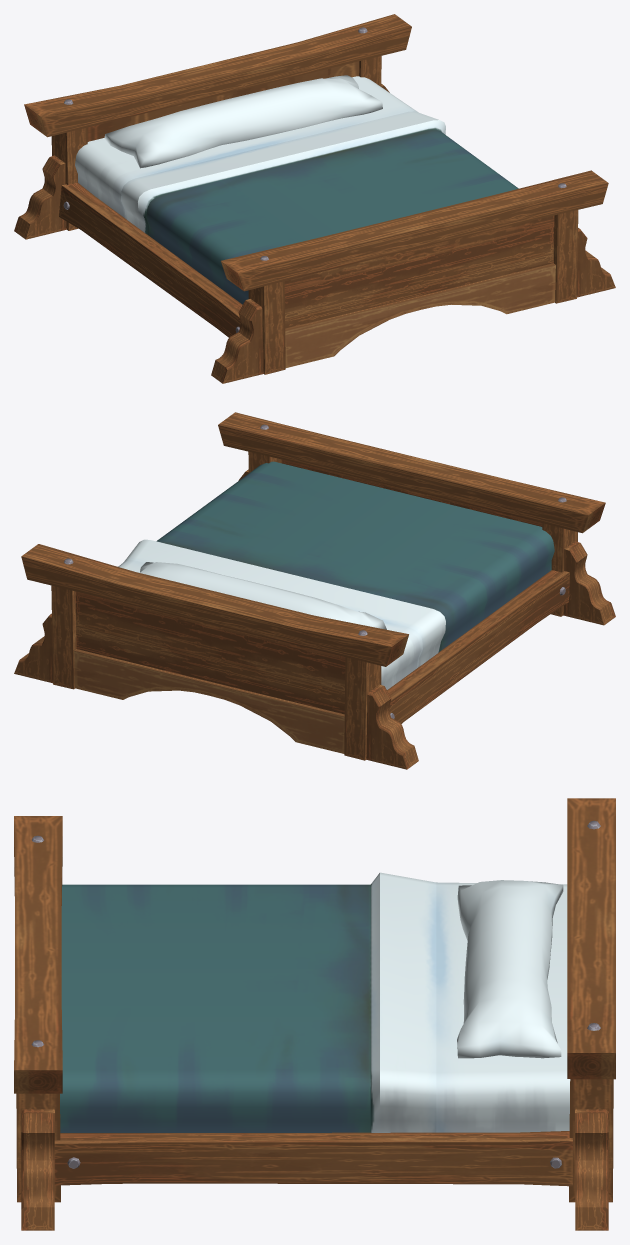
File: Bed_Double2.fbx
3 views of the same model, one above another, from view 1: azimuth 30°, elevation 25°; view 2: azimuth 150°, elevation 25°; view 3: azimuth 270°, elevation 25° (orthographic). The views are drawn at different scales.
Visible parts, largest first — view 1: Bed_Double2; view 2: Bed_Double2; view 3: Bed_Double2.
Part boxes in pixels (left/top/right/bottom): Bed_Double2: left=14, top=14, right=615, bottom=383; Bed_Double2: left=14, top=412, right=615, bottom=769; Bed_Double2: left=14, top=798, right=615, bottom=1230.
Bounding box in the file's own units: 256 × 76.05 × 241.
